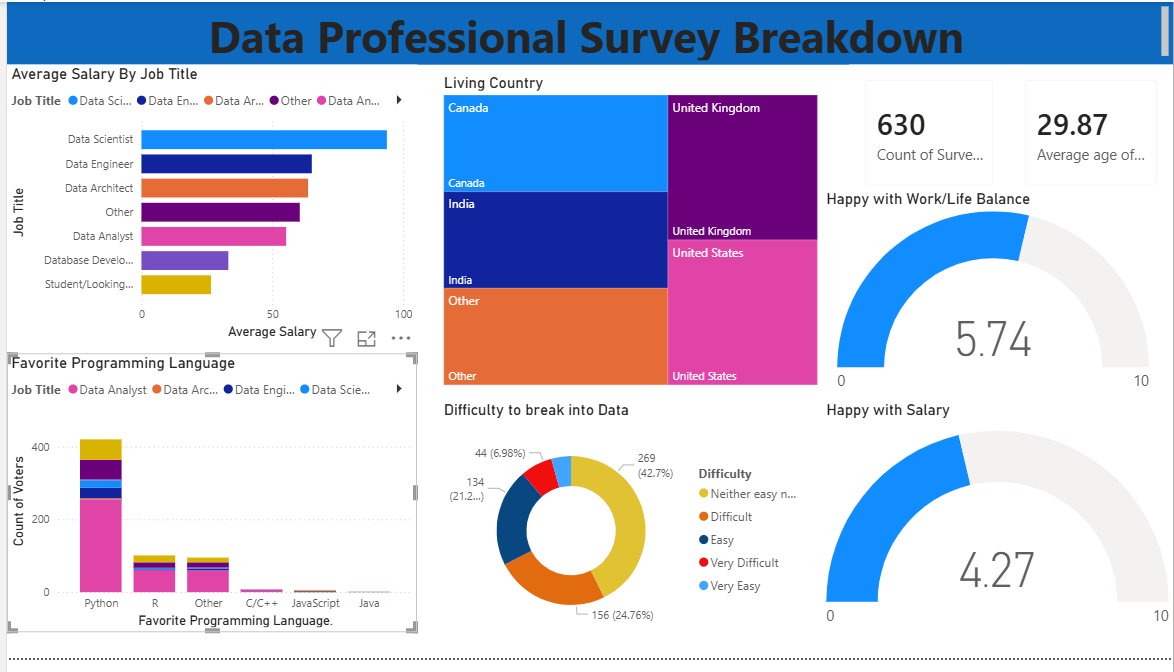

What the dashboard file says about the page in this screenshot:
{"tool":"powerbi","page":{"name":"Page 1","canvas":[1280,720],"ordinal":0},"visuals":[{"type":"textbox","box":[0,0,1280.3,68.6],"z":0},{"type":"cardVisual","fields":{"Data":["Count(Data Professional Survey.Unique ID)"]},"box":[924.9,68.6,175.6,150.9],"z":1},{"type":"cardVisual","fields":{"Data":["Avg(Data Professional Survey.Q10 - Current Age)"]},"box":[1100.5,68.6,179.8,150.9],"z":2},{"type":"barChart","title":"Average Salary By Job Title","fields":{"Category":["Data Professional Survey.Q1 - Which Title Best Fits your Current Role?.1"],"Y":["Avg(Data Professional Survey.Average Salary)"],"Series":["Data Professional Survey.Q1 - Which Title Best Fits your Current Role?.1"]},"box":[0,68.6,450.1,306],"z":3},{"type":"columnChart","title":"Favorite Programming Language","fields":{"Category":["Data Professional Survey.Q5 - Favorite Programming Language.1"],"Y":["CountNonNull(Data Professional Survey.Unique ID)"],"Series":["Data Professional Survey.Q1 - Which Title Best Fits your Current Role?.1"]},"box":[0,385,450,306],"z":4},{"type":"treemap","title":"Living Country","fields":{"Group":["Data Professional Survey.Q11 - Which Country do you live in?.1"],"Details":["Data Professional Survey.Q11 - Which Country do you live in?.1"],"Values":["Count(Data Professional Survey.Q11 - Which Country do you live in?.1)"]},"box":[474.8,78.2,419.9,347.2],"z":5},{"type":"gauge","title":" Happy with Work/Life Balance","fields":{"Y":["Avg(Data Professional Survey.Q6 - How Happy are you in your Current Position with the following? (Work/Life Balance))"],"MinValue":["Min(Data Professional Survey.Q6 - How Happy are you in your Current Position with the following? (Work/Life Balance))1"],"MaxValue":["Max(Data Professional Survey.Q6 - How Happy are you in your Current Position with the following? (Work/Life Balance))2"]},"box":[894.7,205.8,376,231.9],"z":6},{"type":"gauge","title":"Happy with Salary","fields":{"Y":["Avg(Data Professional Survey.Q6 - How Happy are you in your Current Position with the following? (Salary))"],"MinValue":["Min(Data Professional Survey.Q6 - How Happy are you in your Current Position with the following? (Salary))"],"MaxValue":["Max(Data Professional Survey.Q6 - How Happy are you in your Current Position with the following? (Salary))"]},"box":[894.7,437.7,385.6,266.2],"z":7},{"type":"donutChart","title":"Difficulty to break into Data","fields":{"Y":["CountNonNull(Data Professional Survey.Q7 - How difficult was it for you to break into Data?)"],"Category":["Data Professional Survey.Q7 - How difficult was it for you to break into Data?"]},"box":[474.8,437.7,410.3,266.2],"z":8}]}

Visuals, with their boxes in screenshot pixels (x1, y1, x2, y2), scaled from the page's 1280x720 canvas onto the 1174x672 screenshot:
textbox: <bbox>0, 0, 1173, 64</bbox>
cardVisual - Count(Data Professional Survey.Unique ID): <bbox>848, 64, 1009, 205</bbox>
cardVisual - Avg(Data Professional Survey.Q10 - Current Age): <bbox>1009, 64, 1173, 205</bbox>
"Average Salary By Job Title" barChart: <bbox>0, 64, 413, 350</bbox>
"Favorite Programming Language" columnChart: <bbox>0, 359, 413, 645</bbox>
"Living Country" treemap: <bbox>435, 73, 821, 397</bbox>
" Happy with Work/Life Balance" gauge: <bbox>821, 192, 1165, 409</bbox>
"Happy with Salary" gauge: <bbox>821, 409, 1173, 657</bbox>
"Difficulty to break into Data" donutChart: <bbox>435, 409, 812, 657</bbox>
